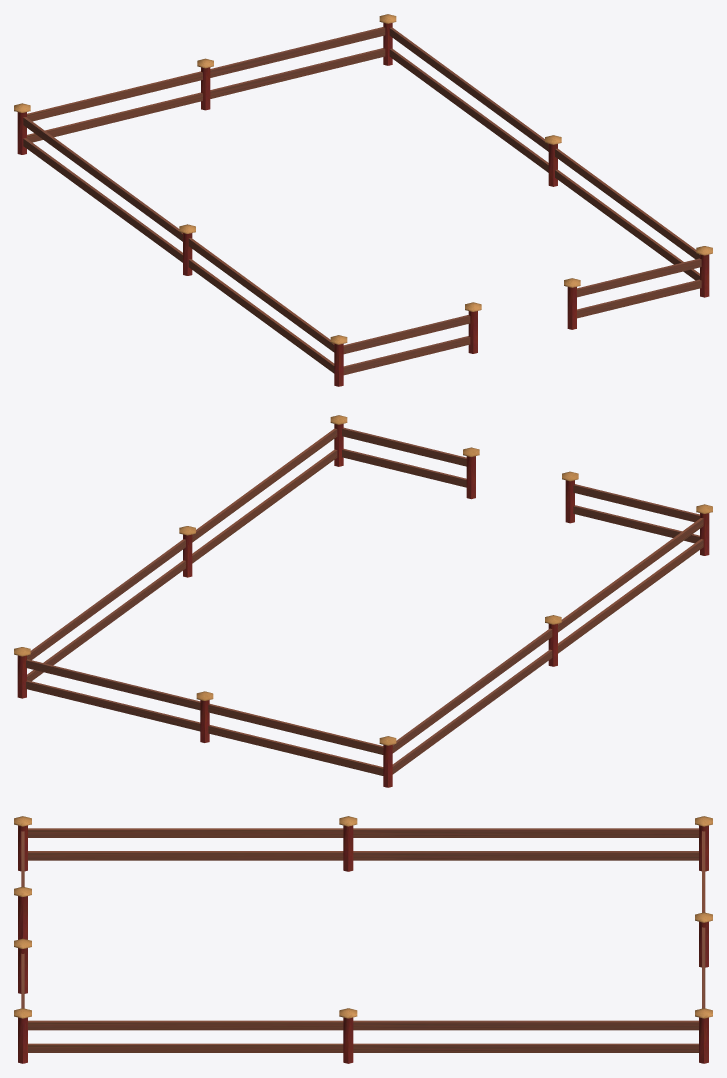
Rendered from pm-fence-02.glb.
3 renders of one model, top to bottom at view 1: azimuth 30°, elevation 25°; view 2: azimuth 150°, elevation 25°; view 3: azimuth 270°, elevation 25°, orthographic. The views are drawn at different scales.
Visible parts, largest first — view 1: Fence02; view 2: Fence02; view 3: Fence02.
Boxes of the visible parts, bbox=[...] form: Fence02: bbox=[14, 14, 712, 386]; Fence02: bbox=[14, 415, 712, 787]; Fence02: bbox=[14, 816, 712, 1063].
Size of the model in its own units: 15.47 by 1.86 by 22.76.
3 materials, 3 textured.
